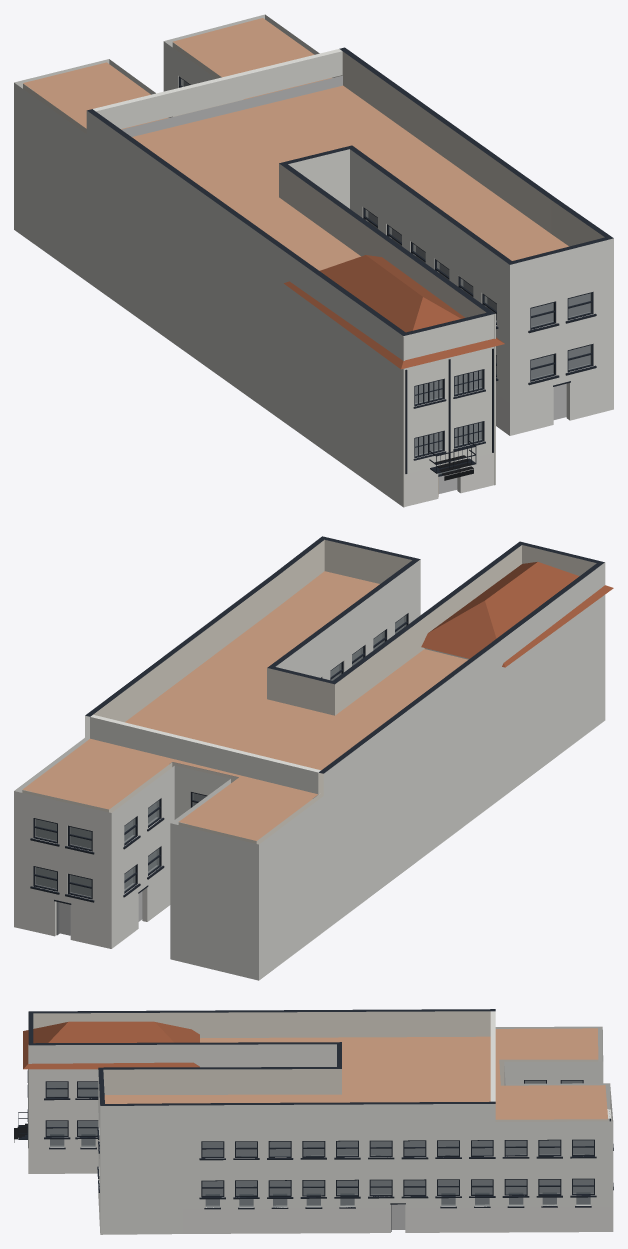
The model's file is exterior.glb.
3 views of the same model, one above another, from view 1: azimuth 30°, elevation 25°; view 2: azimuth 150°, elevation 25°; view 3: azimuth 270°, elevation 25° (orthographic). The views are drawn at different scales.
Visible parts, largest first — view 1: shell, roof, relief-7, roof-low, shell-step, glazing, shadow-proxy, frames, shadow-proxy-step, trim; view 2: shell, roof, roof-low, relief-7, shell-step, glazing, shadow-proxy, frames, trim; view 3: shell, roof, glazing, shadow-proxy, roof-low, frames, relief-7, trim, shell-step.
Boxes of the visible parts, x1,y1,x2,y2 form: shell: [14, 14, 613, 506]; roof: [34, 49, 568, 270]; relief-7: [284, 255, 504, 507]; roof-low: [23, 18, 314, 128]; shell-step: [93, 49, 342, 128]; glazing: [180, 78, 591, 474]; shadow-proxy: [184, 81, 589, 493]; frames: [178, 76, 593, 458]; shadow-proxy-step: [121, 75, 342, 136]; trim: [413, 313, 596, 460]; shell: [14, 536, 604, 980]; roof: [32, 571, 467, 840]; roof-low: [23, 738, 317, 840]; relief-7: [421, 541, 613, 720]; shell-step: [90, 714, 320, 793]; glazing: [35, 615, 406, 897]; shadow-proxy: [36, 617, 403, 935]; frames: [33, 613, 408, 899]; trim: [30, 817, 164, 902]; shell: [28, 1009, 613, 1234]; roof: [104, 1036, 607, 1119]; glazing: [46, 1080, 593, 1207]; shadow-proxy: [47, 1081, 593, 1229]; roof-low: [495, 1028, 607, 1119]; frames: [45, 1080, 610, 1197]; relief-7: [23, 1011, 199, 1173]; trim: [27, 1070, 613, 1209]; shell-step: [490, 1011, 495, 1101].
Bounding box in the file's own units: 16.06 × 10.38 × 41.75.
